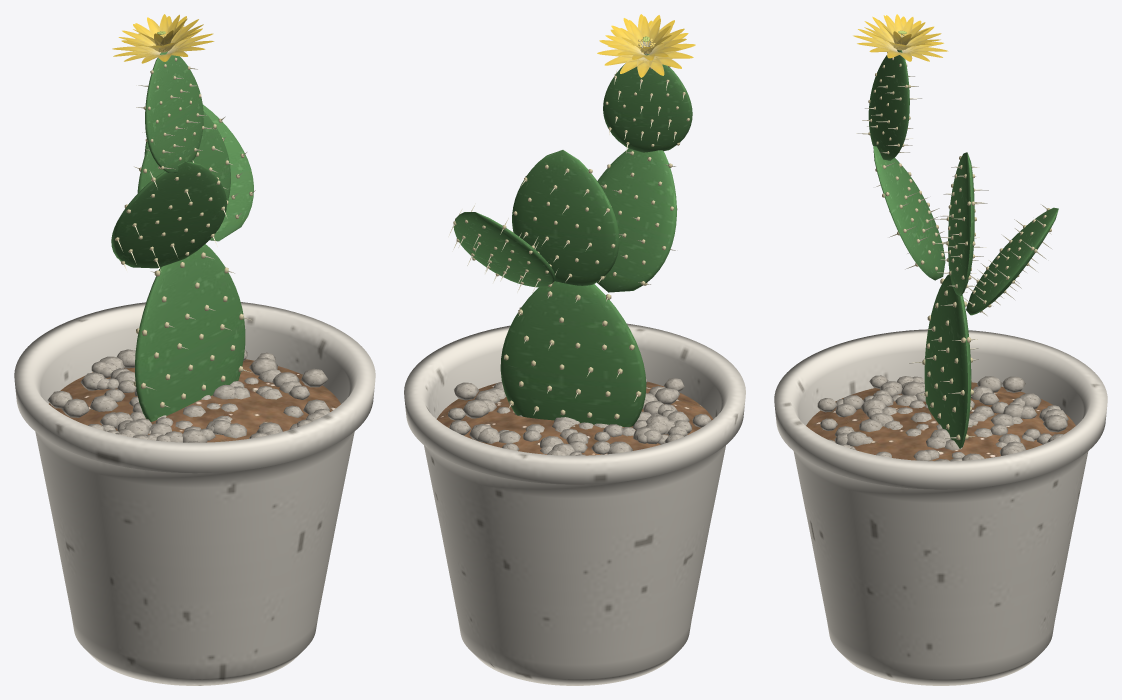
The model's file is opuntia.glb.
3 views of the same model, side by side, from view 1: azimuth 30°, elevation 25°; view 2: azimuth 150°, elevation 25°; view 3: azimuth 270°, elevation 25° (orthographic). The views are drawn at different scales.
Visible parts, largest first — view 1: piece-0, piece-3, piece-2, piece-1, piece-6, piece-4, piece-5; view 2: piece-0, piece-3, piece-2, piece-1, piece-6, piece-4, piece-5; view 3: piece-0, piece-3, piece-2, piece-1, piece-6, piece-4, piece-5.
Part boxes in pixels (x1=…): piece-0: x1=14, y1=302, x2=375, y2=685; piece-3: x1=111, y1=51, x2=253, y2=421; piece-2: x1=47, y1=349, x2=329, y2=442; piece-1: x1=49, y1=359, x2=340, y2=442; piece-6: x1=112, y1=14, x2=214, y2=63; piece-4: x1=115, y1=57, x2=252, y2=407; piece-5: x1=117, y1=68, x2=255, y2=407; piece-0: x1=404, y1=323, x2=745, y2=685; piece-3: x1=453, y1=54, x2=692, y2=426; piece-2: x1=448, y1=378, x2=711, y2=455; piece-1: x1=436, y1=381, x2=713, y2=455; piece-6: x1=597, y1=14, x2=695, y2=77; piece-4: x1=453, y1=66, x2=689, y2=419; piece-5: x1=448, y1=69, x2=684, y2=414; piece-0: x1=774, y1=329, x2=1107, y2=685; piece-3: x1=868, y1=49, x2=1058, y2=448; piece-2: x1=817, y1=375, x2=1068, y2=461; piece-1: x1=806, y1=382, x2=1075, y2=460; piece-6: x1=853, y1=14, x2=948, y2=61; piece-4: x1=868, y1=52, x2=1051, y2=439; piece-5: x1=856, y1=76, x2=1051, y2=438.
Size of the model in its own units: 0.164 by 0.3246 by 0.164.
10 materials, 5 textured.
